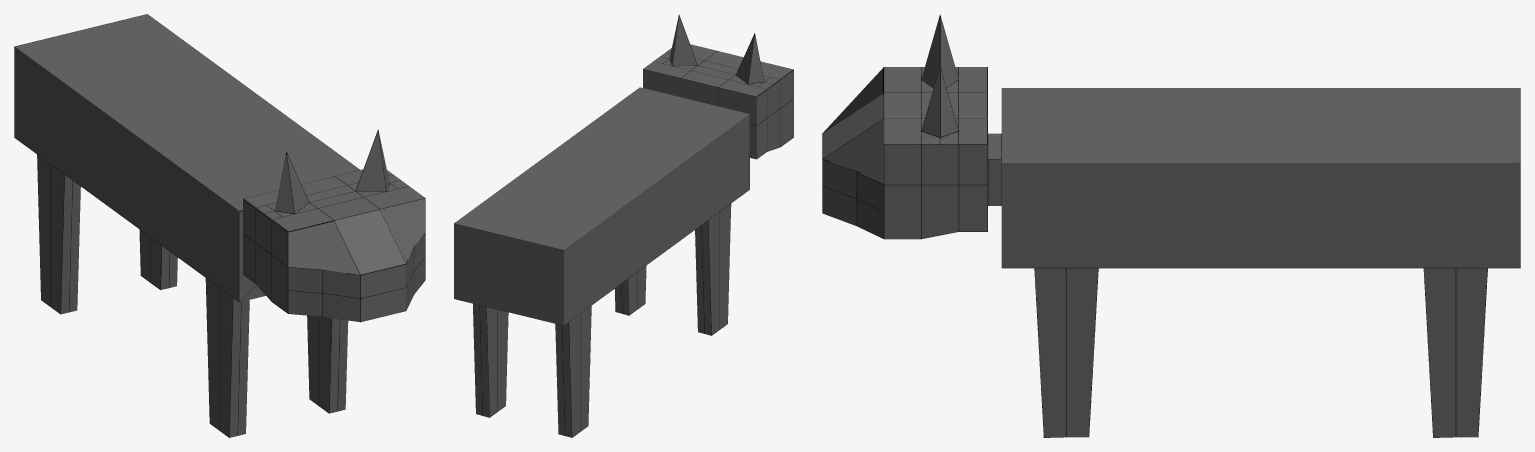
File: cat.obj
3 views of the same model, side by side, from view 1: azimuth 30°, elevation 25°; view 2: azimuth 150°, elevation 25°; view 3: azimuth 270°, elevation 25° (orthographic). The views are drawn at different scales.
Visible parts, largest first — view 1: cat?_Cube.004; view 2: cat?_Cube.004; view 3: cat?_Cube.004.
Boxes of the visible parts, x1=… form: cat?_Cube.004: x1=14, y1=14, x2=425, y2=437; cat?_Cube.004: x1=454, y1=14, x2=793, y2=437; cat?_Cube.004: x1=822, y1=14, x2=1520, y2=437.
Bounding box in the file's own units: 0.335 × 0.7367 × 1.28.
1 material, 1 textured.
